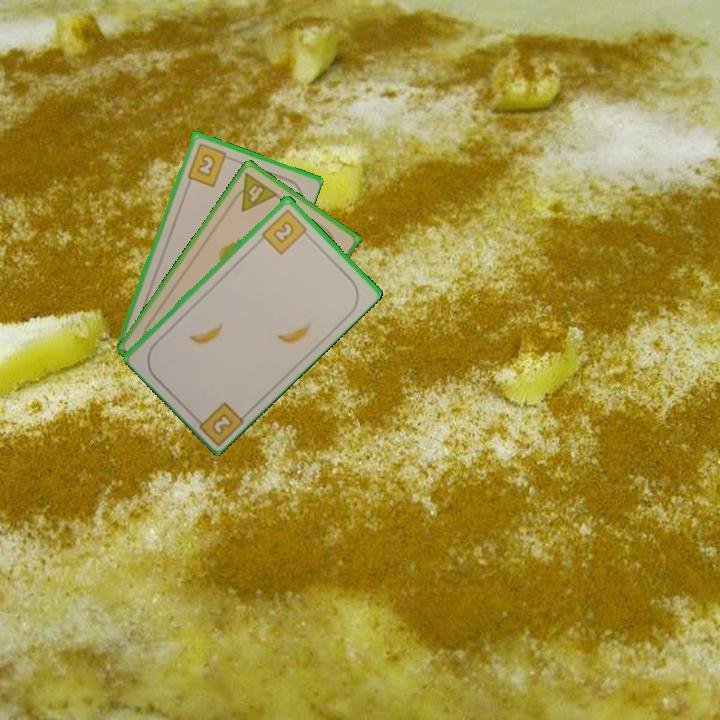2b: (258, 205, 312, 257), (189, 398, 247, 446), (183, 140, 234, 189)
4p: (227, 169, 281, 215)
